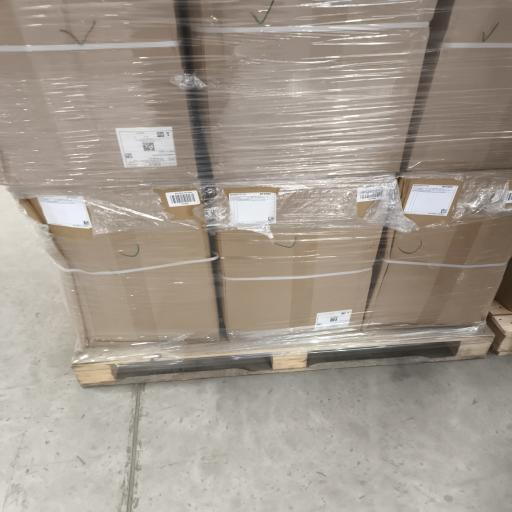pallet: (73, 327, 494, 386), (488, 301, 511, 355)
